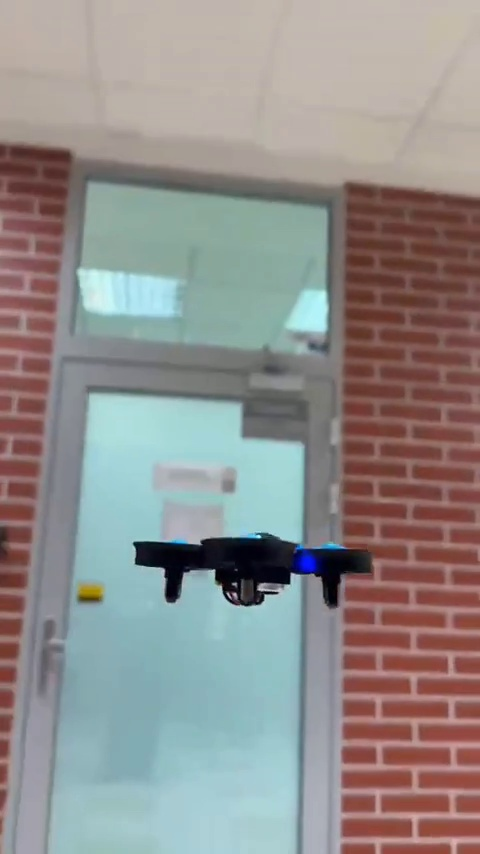drone: (128, 538, 375, 614)
